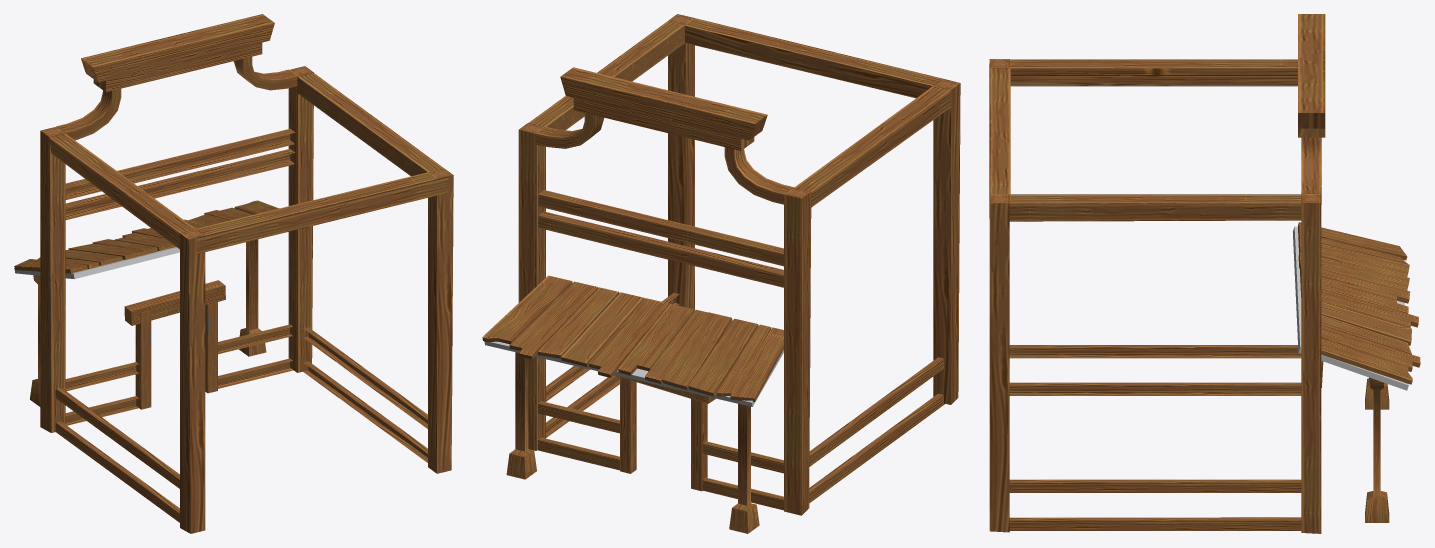
The picture shows the model from 3 angles, left to right: view 1: azimuth 30°, elevation 25°; view 2: azimuth 150°, elevation 25°; view 3: azimuth 270°, elevation 25°; orthographic projection. The views are drawn at different scales.
Parts seen in each view (by area): view 1: Cube.005; view 2: Cube.005; view 3: Cube.005.
Boxes of the visible parts, <box> form: Cube.005: <box>14,14,453,533</box>; Cube.005: <box>482,14,960,533</box>; Cube.005: <box>989,14,1420,533</box>.
Size of the model in its own units: 629 by 812 by 794.
